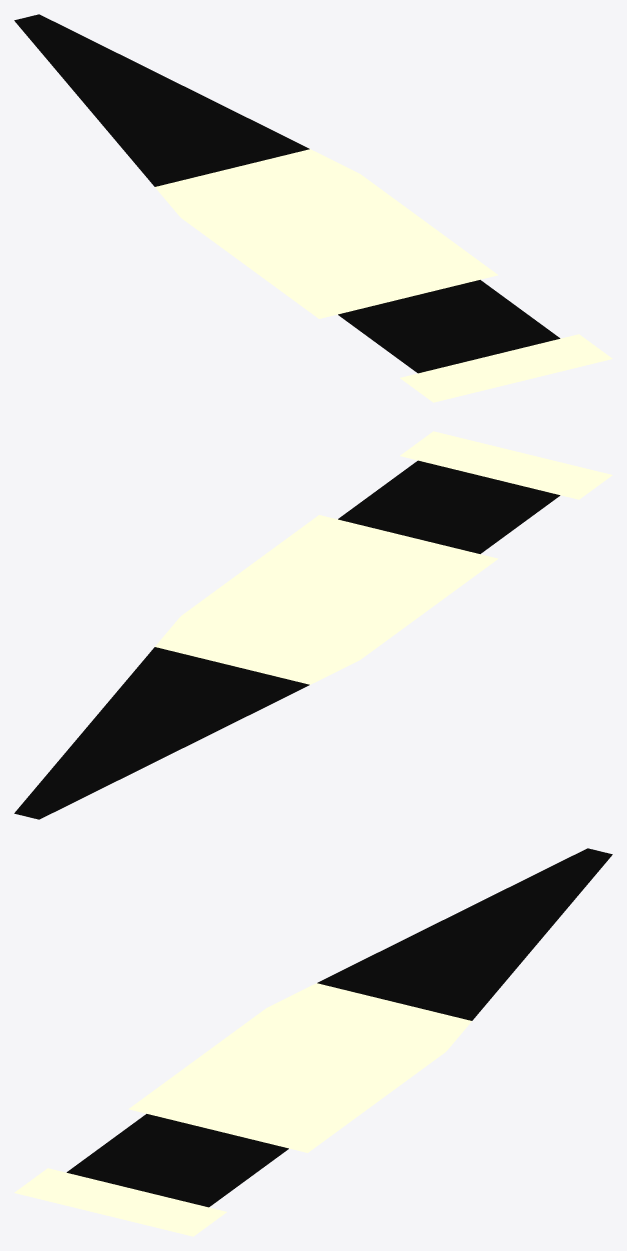
3 views of the same model, one above another, from view 1: azimuth 30°, elevation 25°; view 2: azimuth 150°, elevation 25°; view 3: azimuth 330°, elevation 25° (orthographic).
Parts seen in each view (by area): view 1: AP 13.45; view 2: AP 13.45; view 3: AP 13.45.
Part boxes in pixels (x1=…): AP 13.45: x1=14, y1=14, x2=612, y2=402; AP 13.45: x1=14, y1=431, x2=612, y2=819; AP 13.45: x1=14, y1=848, x2=612, y2=1236.
Bounding box in the file's own units: 3.93e-09 × 0.0168 × 0.0804.
